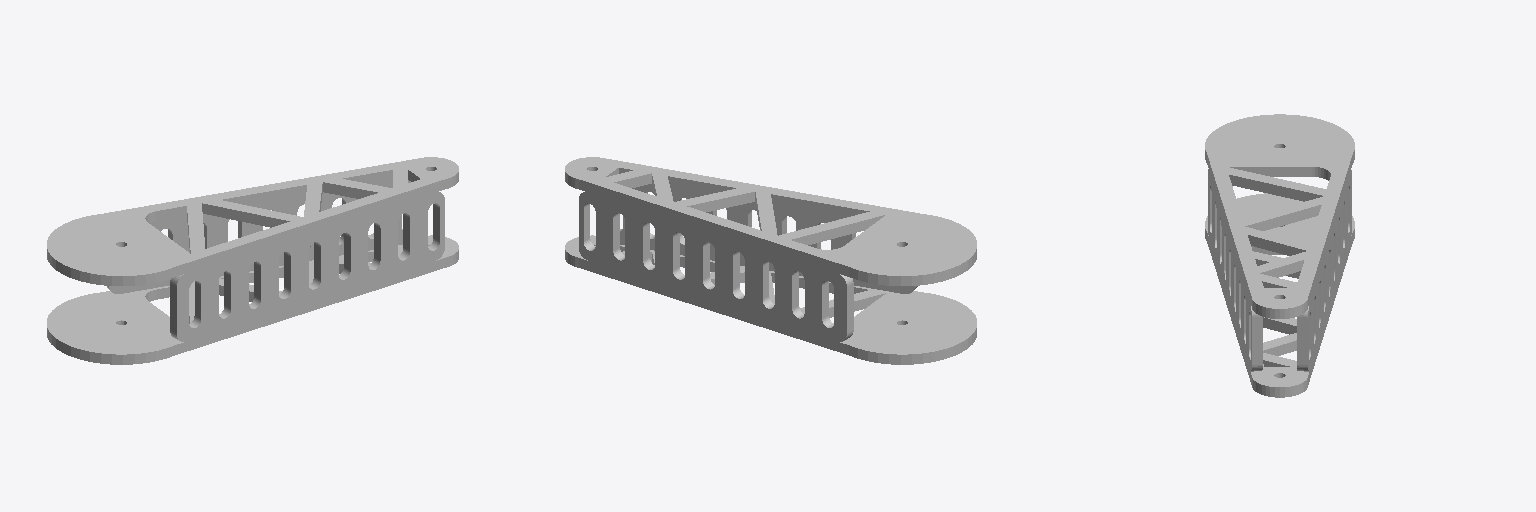
File: Arrow.obj
3 views of the same model, side by side, from view 1: azimuth 30°, elevation 25°; view 2: azimuth 150°, elevation 25°; view 3: azimuth 270°, elevation 25° (orthographic).
Visible parts, largest first — view 1: 3MF_Object.002, 3MF_Object.008, 3MF_Object.004, 3MF_Object.006; view 2: 3MF_Object.002, 3MF_Object.006, 3MF_Object.004, 3MF_Object.008; view 3: 3MF_Object.002, 3MF_Object.004, 3MF_Object.006, 3MF_Object.008.
Boxes of the visible parts, <box> form: 3MF_Object.002: <box>47,157,458,285</box>; 3MF_Object.008: <box>170,192,444,341</box>; 3MF_Object.004: <box>47,235,458,364</box>; 3MF_Object.006: <box>107,180,410,293</box>; 3MF_Object.002: <box>565,157,976,285</box>; 3MF_Object.006: <box>579,192,853,341</box>; 3MF_Object.004: <box>565,235,976,364</box>; 3MF_Object.008: <box>620,184,917,293</box>; 3MF_Object.002: <box>1205,114,1354,318</box>; 3MF_Object.004: <box>1205,193,1354,397</box>; 3MF_Object.006: <box>1297,170,1351,371</box>; 3MF_Object.008: <box>1208,169,1262,371</box>.
Bounding box in the file's own units: 122 × 26 × 39.96.